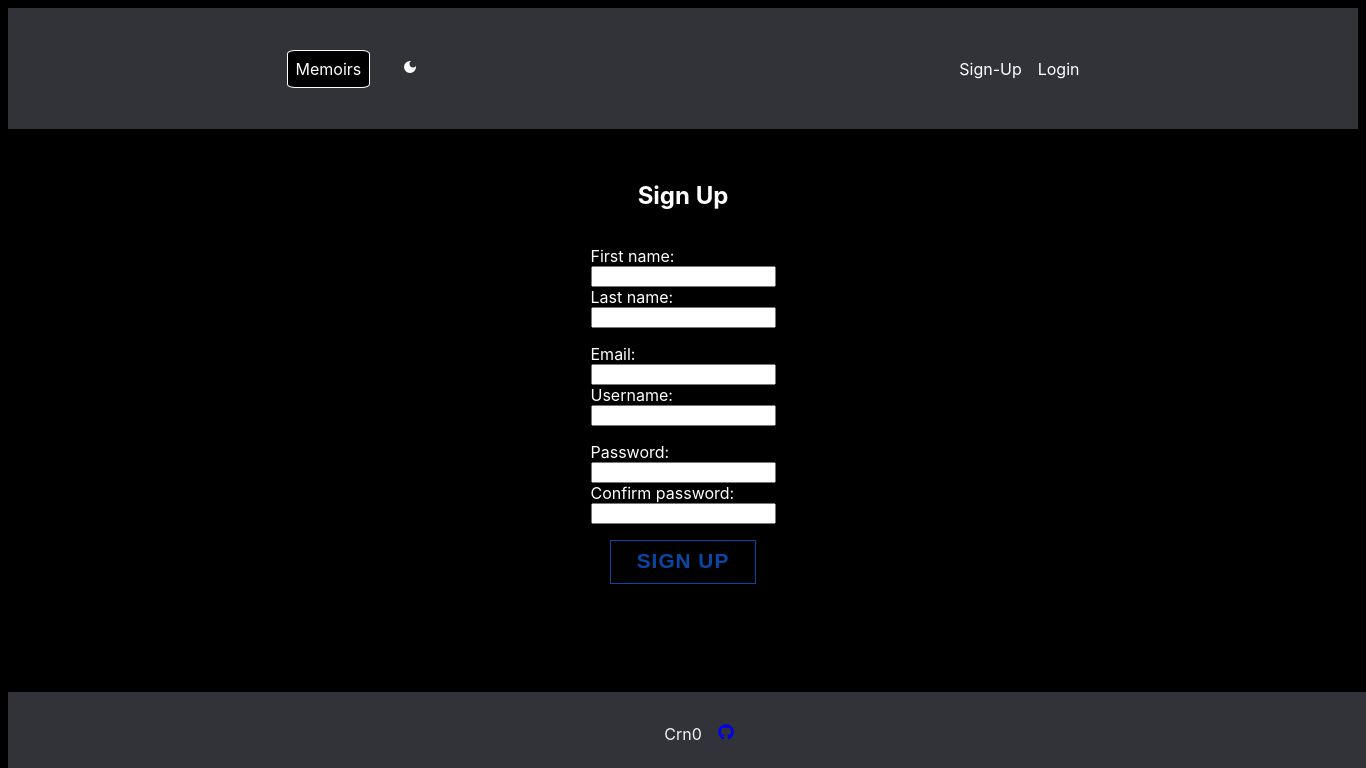
Test case: Sign-up form page › renders an error message if the username has special characters
In the field labelled "First name:": [683, 276] box [590,266,776,287], type "Jane"
In the field labelled "Last name:": [683, 318] box [590,307,776,328], type "Doe"
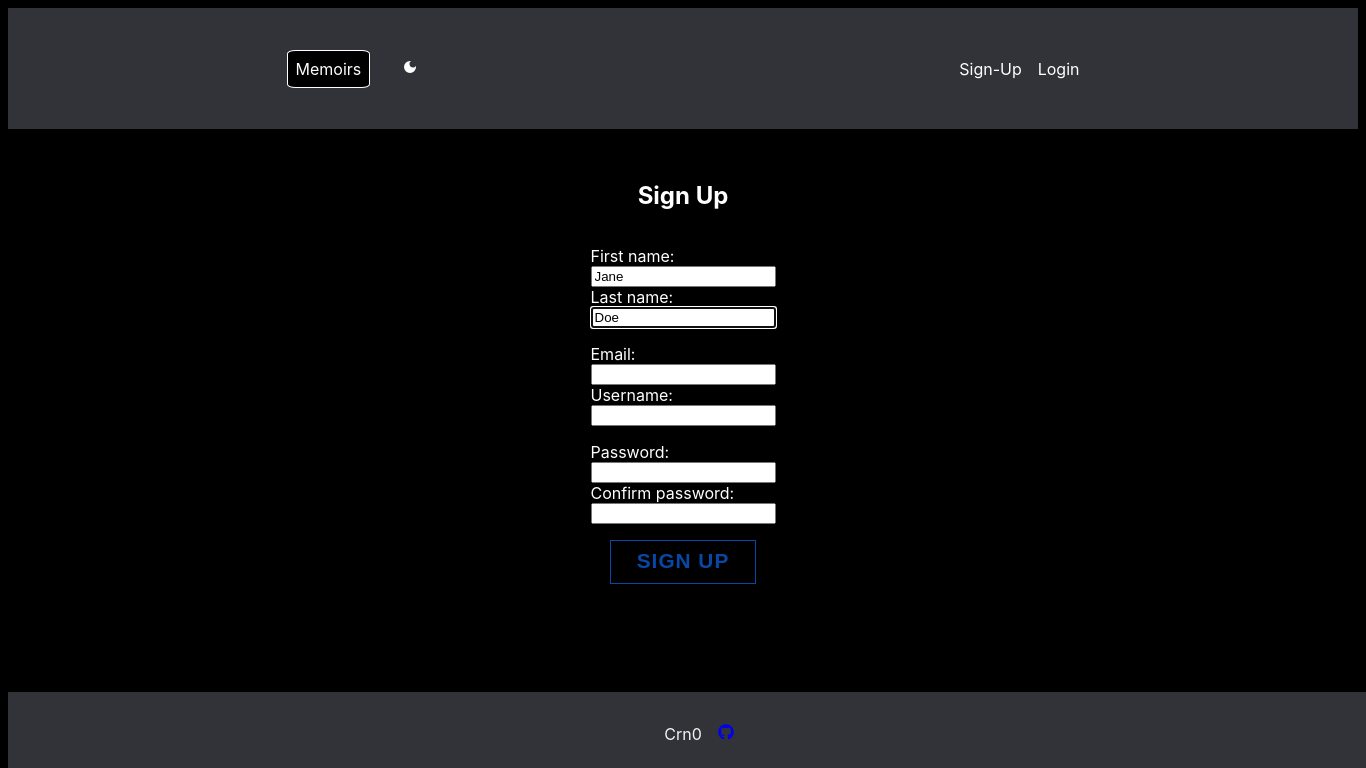
In the field labelled "Username:": [683, 416] box [590,405,776,426], type "jane_doe"
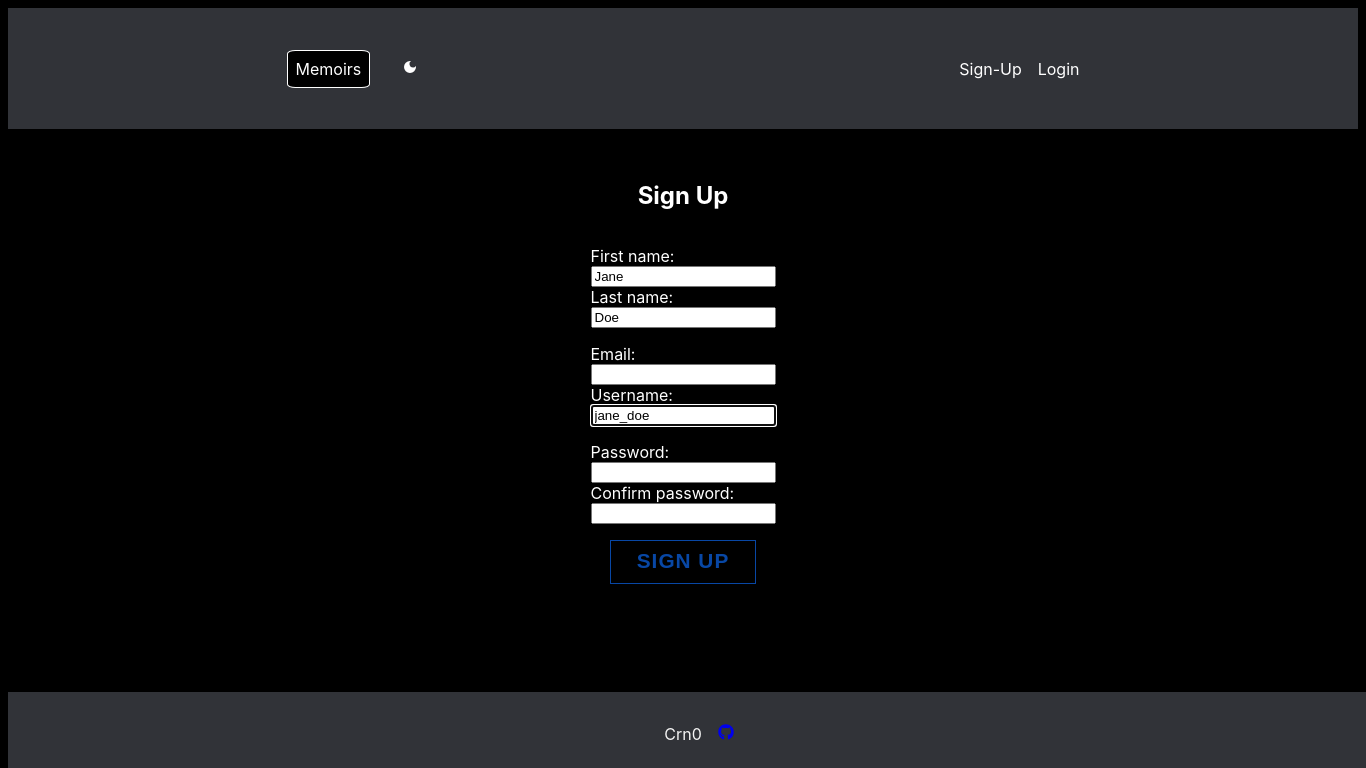
In the field labelled "Email:": [683, 374] box [590,364,776,385], type "JD@gmail.com"
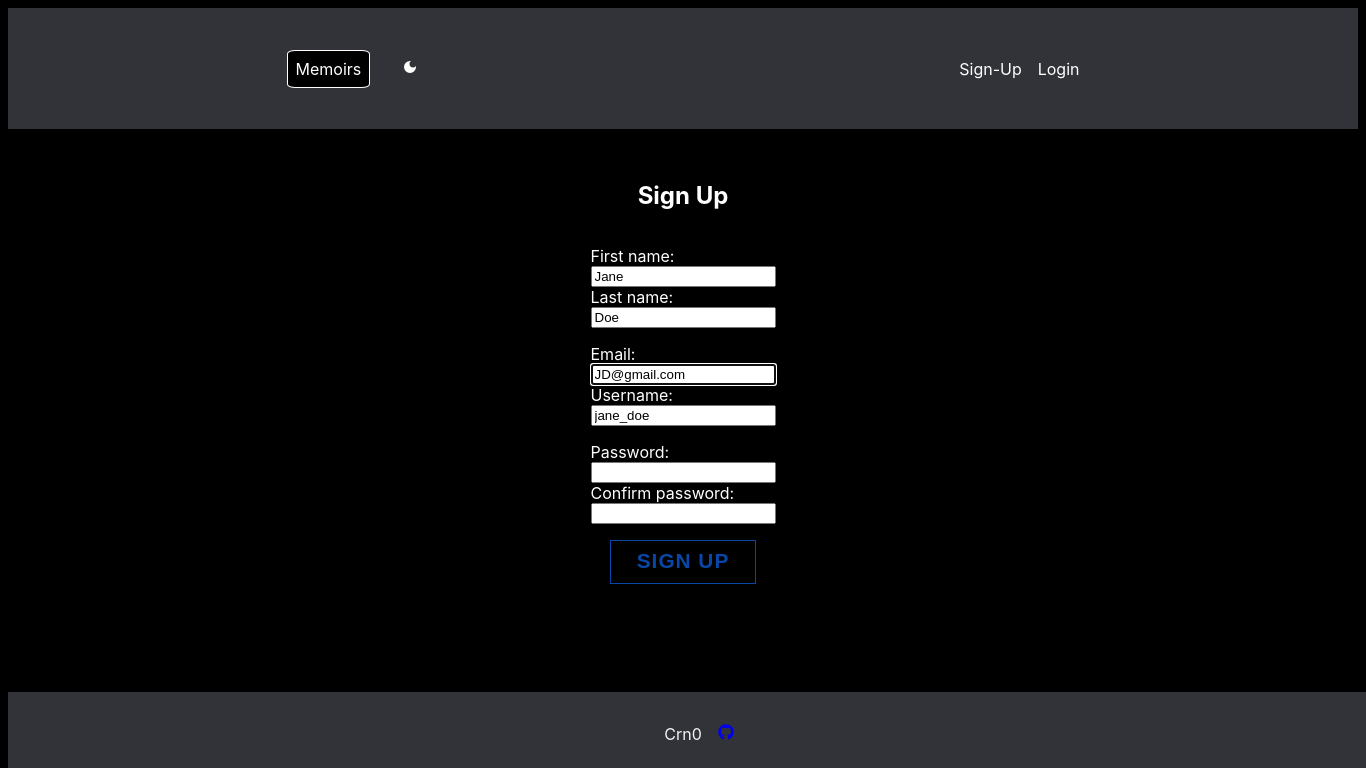
In the password field labelled "Password:": [683, 472] box [590,462,776,483], type "1234"
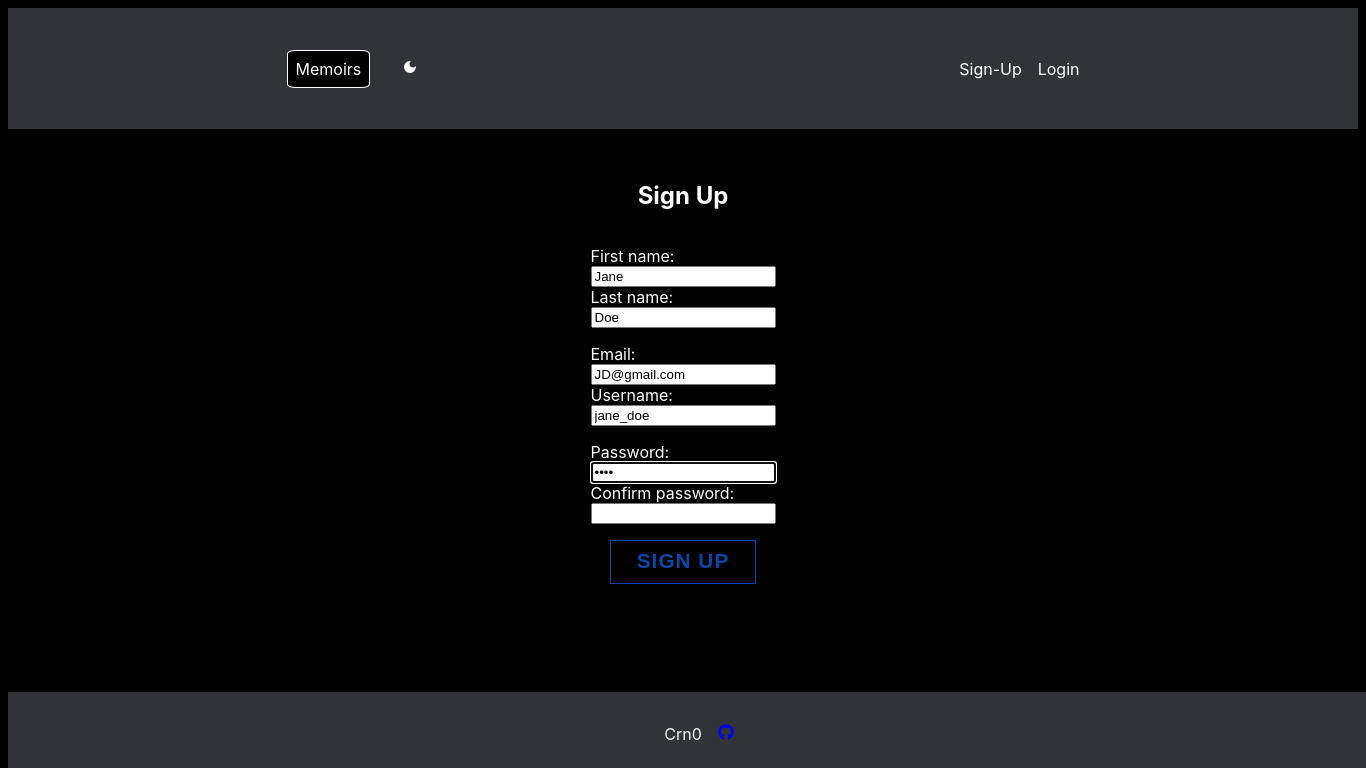
In the password field labelled "Confirm password:": [683, 514] box [590,503,776,524], type "1234"
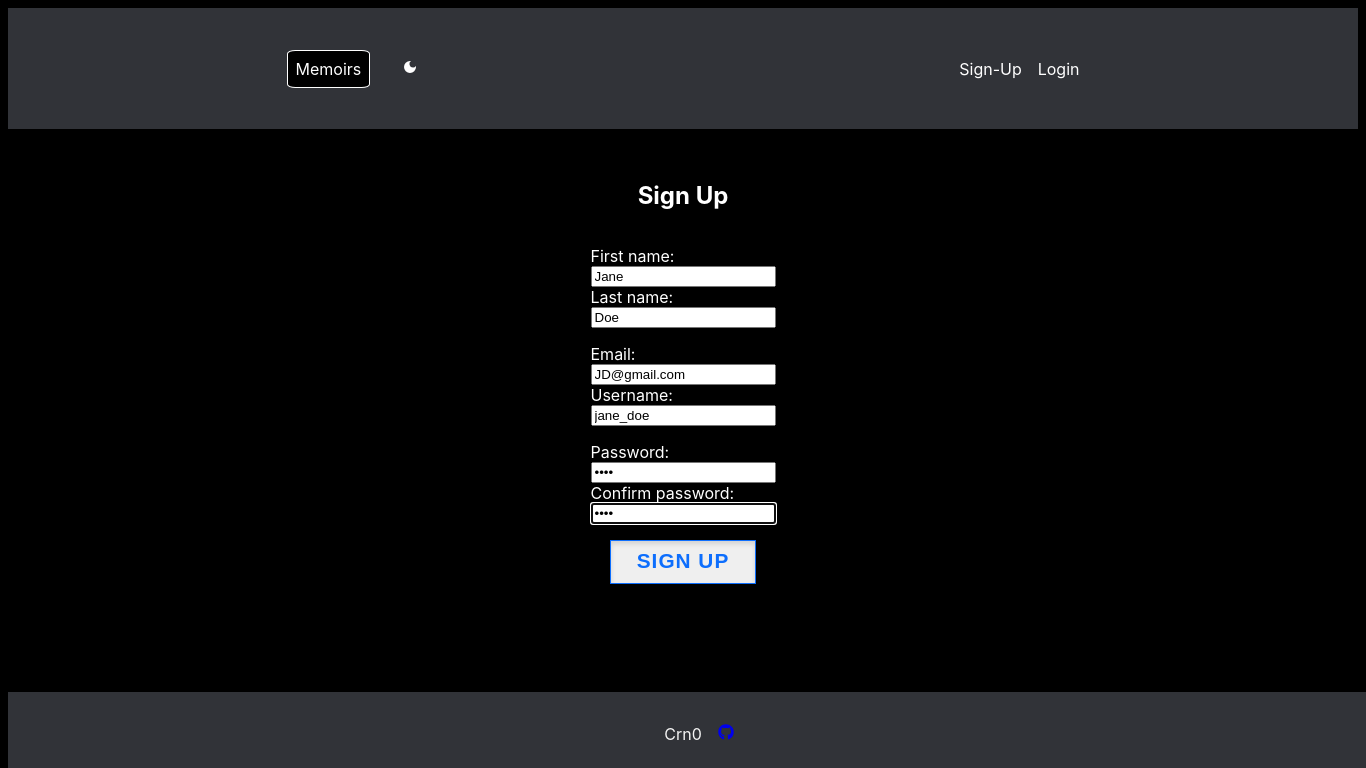
Click the button "Sign Up": [683, 562] box [610,540,756,584]
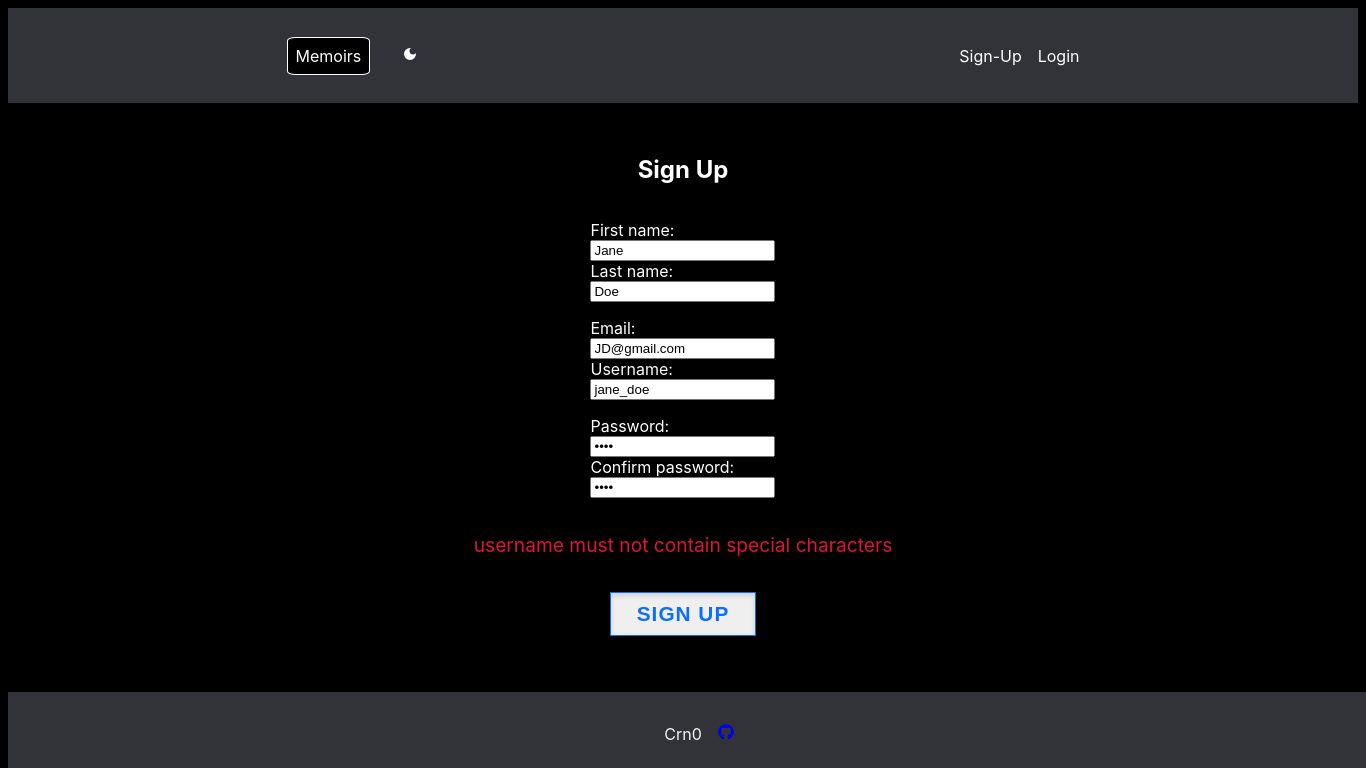
Result: the text "username must not contain special characters" is shown at [474,533,892,557]
